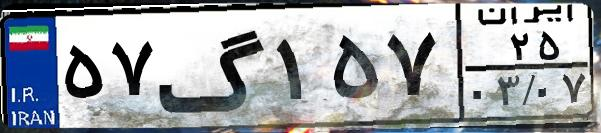0: (470, 70, 495, 125), (535, 70, 560, 125)
1: (270, 28, 330, 110)
2: (508, 27, 537, 80)
3: (495, 70, 520, 125)
5: (330, 28, 385, 110), (57, 26, 110, 100), (537, 27, 568, 80)
7: (385, 28, 445, 110), (110, 28, 156, 98), (560, 70, 590, 125)
گ: (156, 12, 270, 120)
